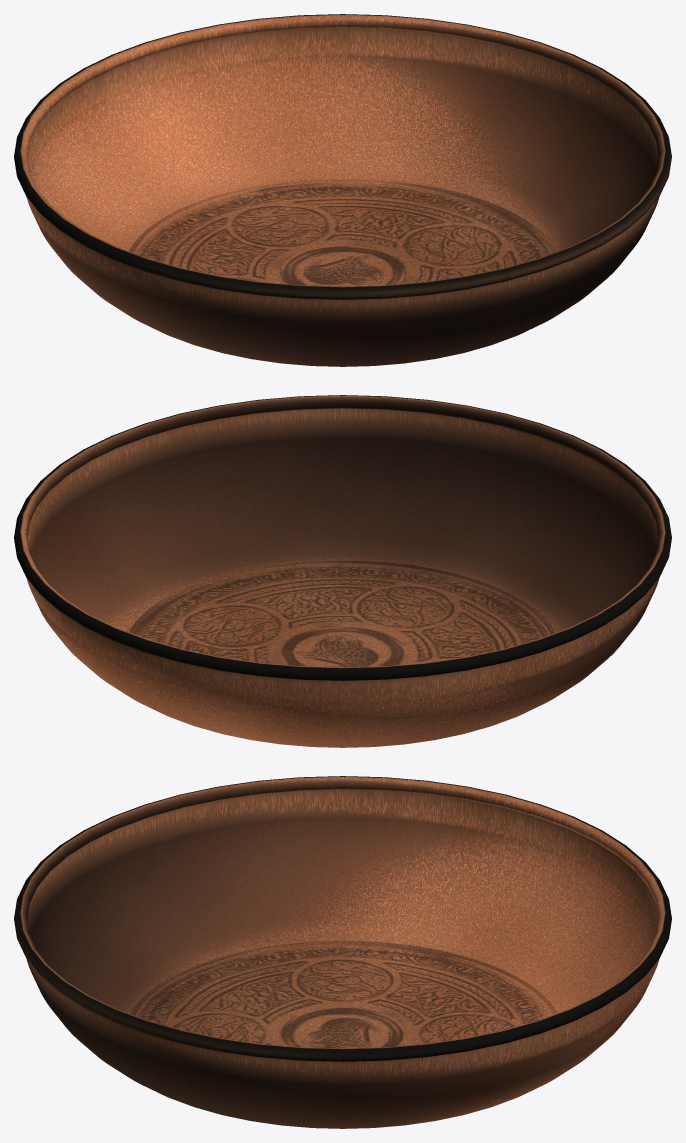
The model's file is 3D COPPER BOWL.glb.
The picture shows the model from 3 angles, top to bottom: view 1: azimuth 30°, elevation 25°; view 2: azimuth 150°, elevation 25°; view 3: azimuth 270°, elevation 25°; orthographic projection.
Parts seen in each view (by area): view 1: 3D COPPER BOWL; view 2: 3D COPPER BOWL; view 3: 3D COPPER BOWL.
Boxes of the visible parts, x1,y1,x2,y2 form: 3D COPPER BOWL: (14, 14, 671, 366); 3D COPPER BOWL: (14, 395, 671, 747); 3D COPPER BOWL: (14, 776, 671, 1128).
Bounding box in the file's own units: 0.2315 × 0.0471 × 0.2315.
1 material, 1 textured.
